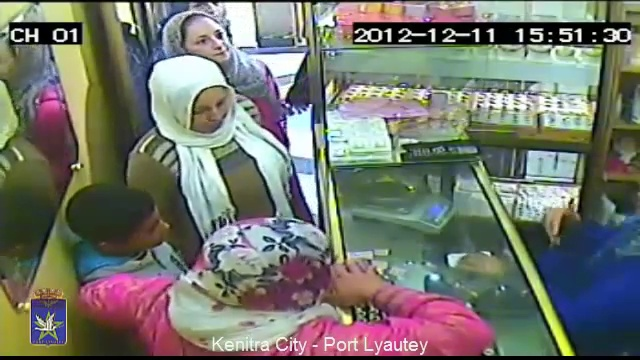face: (111, 202, 170, 249), (179, 84, 235, 131), (177, 15, 233, 57)
